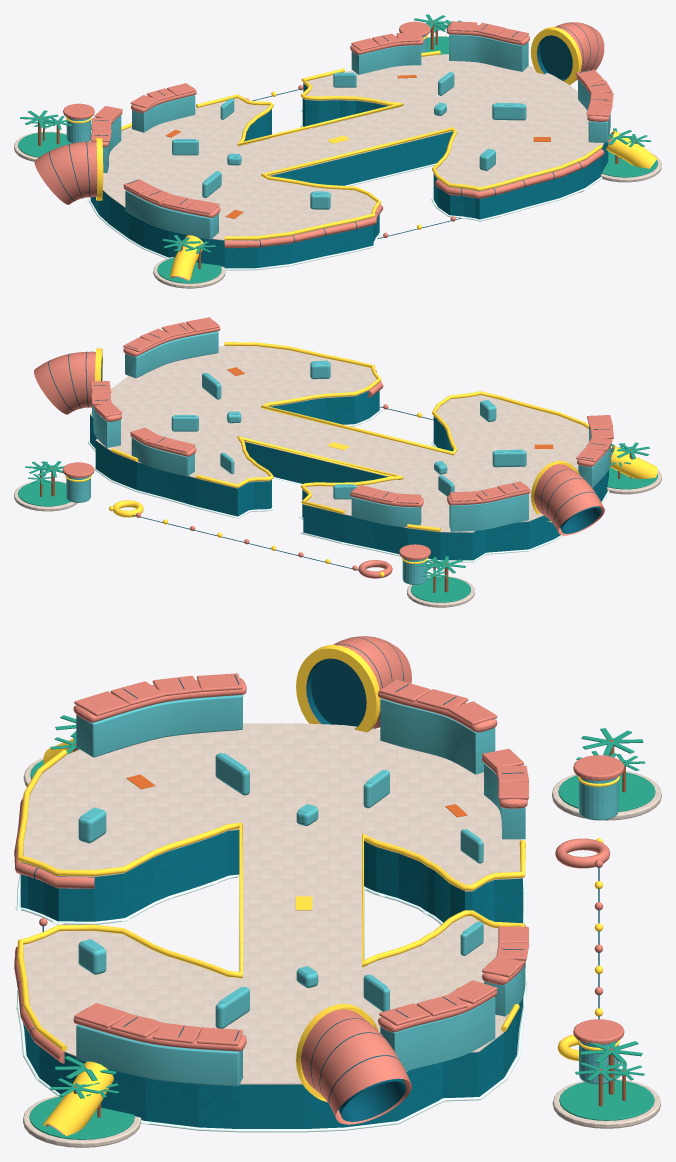
The model's file is twin_bays_art_v10_foreground.glb.
3 views of the same model, one above another, from view 1: azimuth 30°, elevation 25°; view 2: azimuth 150°, elevation 25°; view 3: azimuth 270°, elevation 25° (orthographic). The views are drawn at different scales.
Parts seen in each view (by area): view 1: Foreground_TBSA_DryCream, Foreground_TBSA_CyanDark, Foreground_TBSA_CoralSoft, Foreground_TBSA_Cyan, Foreground_TBSA_SafetyYellow, Foreground_TBSA_IslandGreen, Foreground_TBSA_PortalRecess, Foreground_TBSA_ContactFoam, Foreground_TBSA_PalmTrunk; view 2: Foreground_TBSA_DryCream, Foreground_TBSA_CyanDark, Foreground_TBSA_CoralSoft, Foreground_TBSA_Cyan, Foreground_TBSA_SafetyYellow, Foreground_TBSA_IslandGreen, Foreground_TBSA_PortalRecess, Foreground_TBSA_ContactFoam; view 3: Foreground_TBSA_DryCream, Foreground_TBSA_Cyan, Foreground_TBSA_CoralSoft, Foreground_TBSA_CyanDark, Foreground_TBSA_SafetyYellow, Foreground_TBSA_IslandGreen, Foreground_TBSA_PortalRecess, Foreground_TBSA_ContactFoam, Foreground_TBSA_PalmTrunk.
Part boxes in pixels (left/top/right/bottom): Foreground_TBSA_DryCream: left=14, top=36, right=661, bottom=288; Foreground_TBSA_CyanDark: left=90, top=83, right=608, bottom=268; Foreground_TBSA_CoralSoft: left=34, top=21, right=614, bottom=280; Foreground_TBSA_Cyan: left=66, top=34, right=610, bottom=239; Foreground_TBSA_SafetyYellow: left=66, top=27, right=657, bottom=280; Foreground_TBSA_IslandGreen: left=18, top=14, right=657, bottom=283; Foreground_TBSA_PortalRecess: left=49, top=22, right=609, bottom=247; Foreground_TBSA_ContactFoam: left=87, top=109, right=602, bottom=270; Foreground_TBSA_PalmTrunk: left=38, top=21, right=636, bottom=268; Foreground_TBSA_DryCream: left=14, top=346, right=661, bottom=607; Foreground_TBSA_CyanDark: left=90, top=391, right=608, bottom=560; Foreground_TBSA_CoralSoft: left=34, top=317, right=614, bottom=578; Foreground_TBSA_Cyan: left=66, top=331, right=610, bottom=584; Foreground_TBSA_SafetyYellow: left=65, top=342, right=657, bottom=577; Foreground_TBSA_IslandGreen: left=18, top=442, right=657, bottom=602; Foreground_TBSA_PortalRecess: left=48, top=324, right=609, bottom=570; Foreground_TBSA_ContactFoam: left=88, top=408, right=609, bottom=562; Foreground_TBSA_DryCream: left=20, top=723, right=661, bottom=1147; Foreground_TBSA_Cyan: left=76, top=695, right=618, bottom=1086; Foreground_TBSA_CoralSoft: left=14, top=636, right=624, bottom=1134; Foreground_TBSA_CyanDark: left=20, top=830, right=522, bottom=1128; Foreground_TBSA_SafetyYellow: left=17, top=645, right=619, bottom=1135; Foreground_TBSA_IslandGreen: left=29, top=715, right=655, bottom=1139; Foreground_TBSA_PortalRecess: left=14, top=637, right=599, bottom=1121; Foreground_TBSA_ContactFoam: left=15, top=874, right=527, bottom=1132; Foreground_TBSA_PalmTrunk: left=73, top=740, right=625, bottom=1117.
Bounding box in the file's own units: 138 × 19.57 × 85.14.
Materials: 10 (4 with a texture image).
